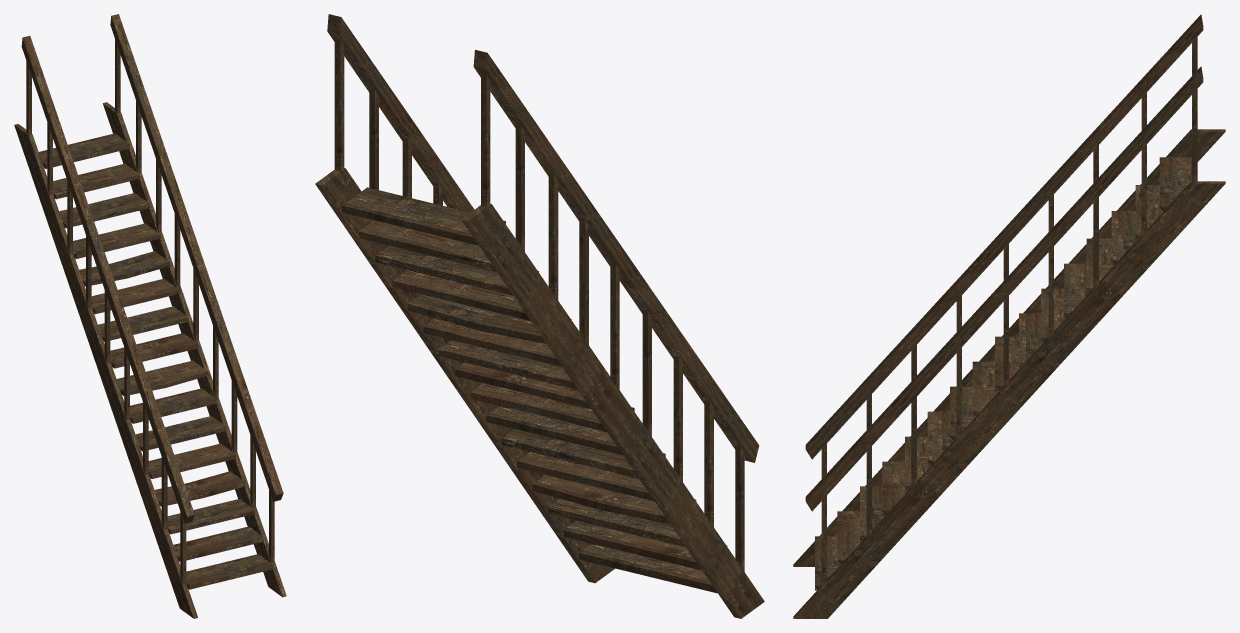
Rendered from OldBuildingStaircaseWooden.obj.
3 views of the same model, side by side, from view 1: azimuth 30°, elevation 25°; view 2: azimuth 150°, elevation 25°; view 3: azimuth 270°, elevation 25° (orthographic). The views are drawn at different scales.
Visible parts, largest first — view 1: Box38; view 2: Box38; view 3: Box38.
Part boxes in pixels (box(x1,y1,x2,y2)): Box38: box(14, 14, 286, 618); Box38: box(315, 14, 764, 618); Box38: box(793, 14, 1225, 618).
Size of the model in its own units: 0.9715 by 4.41 by 3.14.
Materials: 1 (1 with a texture image).
